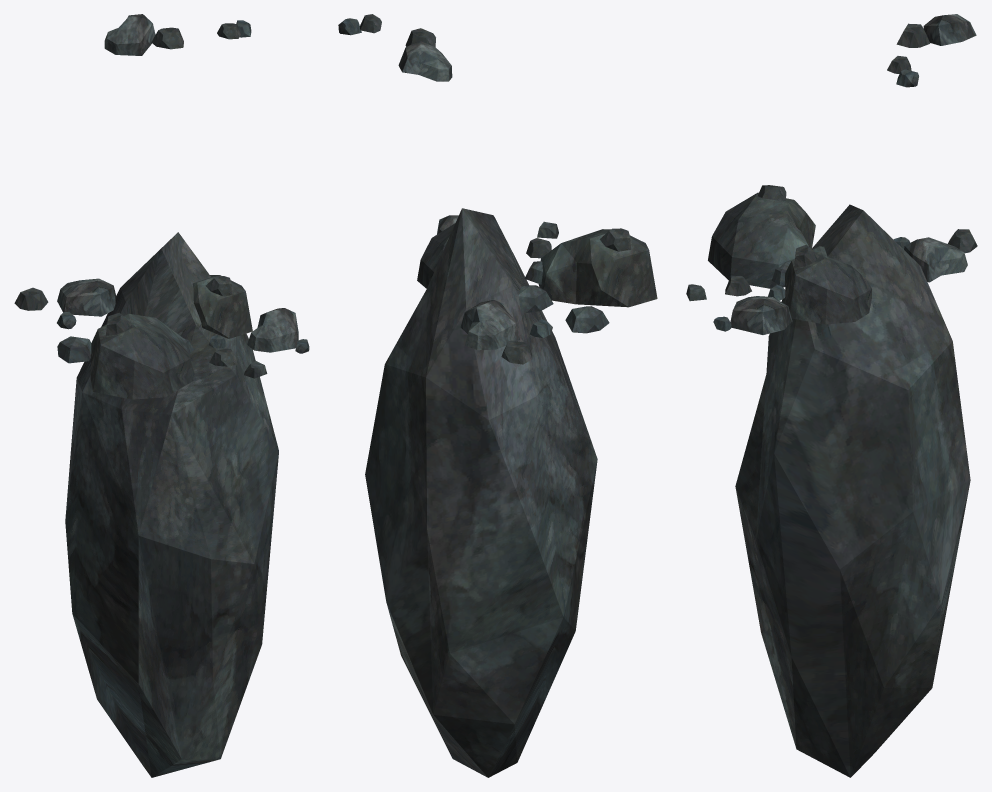
File: object_rubble38.fbx
3 renders of one model, left to right at view 1: azimuth 30°, elevation 25°; view 2: azimuth 150°, elevation 25°; view 3: azimuth 270°, elevation 25°, orthographic. The views are drawn at different scales.
Parts seen in each view (by area): view 1: obj1.025; view 2: obj1.025; view 3: obj1.025.
Boxes of the visible parts, left/top/right/bottom form: obj1.025: left=14, top=14, right=309, bottom=777; obj1.025: left=338, top=14, right=657, bottom=777; obj1.025: left=686, top=14, right=977, bottom=777.
Bounding box in the file's own units: 5.87 × 17.47 × 6.11.
